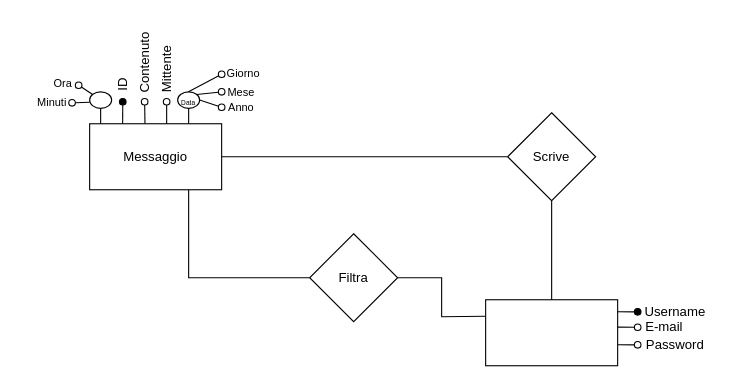
The diagram is 737 pixels wide and 385 high, and some of its shapes have lost their labels. Here are the shapes that lost their labels. From the top down, the box of each, then its label:
(89, 91, 112, 108): Orario
(485, 299, 618, 366): Utente
